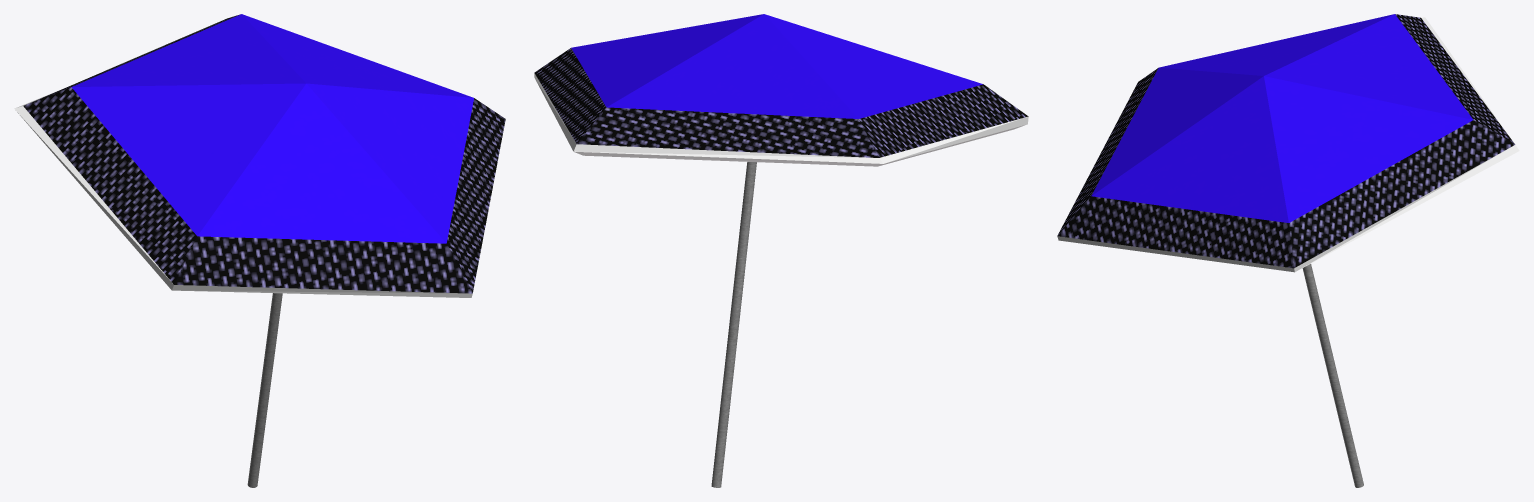
Rendered from umbrella.fbx.
3 views of the same model, side by side, from view 1: azimuth 30°, elevation 25°; view 2: azimuth 150°, elevation 25°; view 3: azimuth 270°, elevation 25° (orthographic). The views are drawn at different scales.
Parts seen in each view (by area): view 1: pCylinder6, pCylinder7; view 2: pCylinder6, pCylinder7; view 3: pCylinder6, pCylinder7.
Part boxes in pixels (x1,y1,x2,y2): pCylinder6: (14, 14, 505, 297); pCylinder7: (247, 293, 282, 487); pCylinder6: (534, 14, 1028, 166); pCylinder7: (711, 162, 756, 487); pCylinder6: (1057, 14, 1519, 272); pCylinder7: (1302, 264, 1363, 487).
Bounding box in the file's own units: 166 × 165 × 168.
7 materials, 6 textured.
